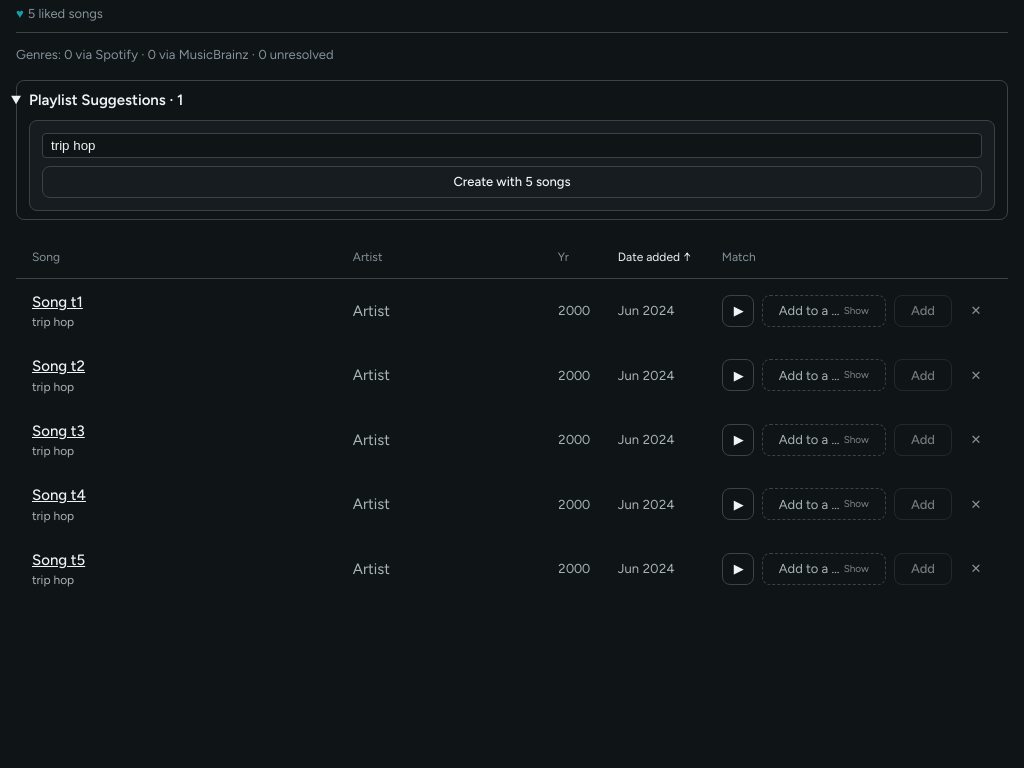
surfaces an error and does not refresh when playlist creation fails
Click the button "Create with 5 songs" at [512, 182], box [42, 166, 982, 198]
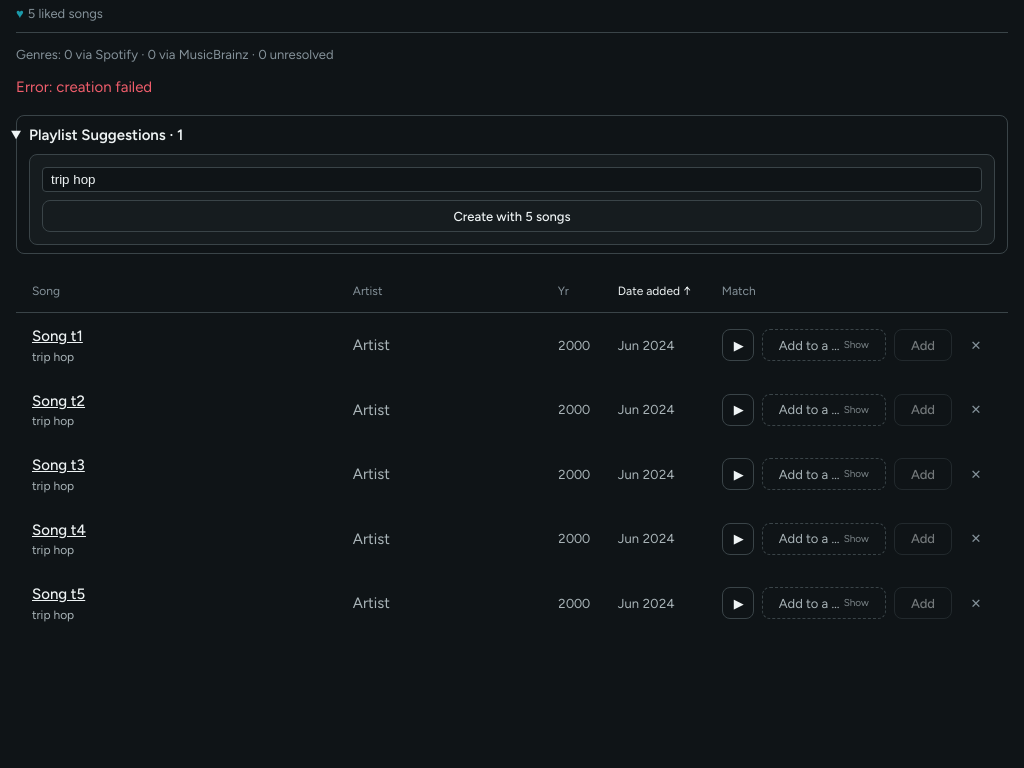
Expected: the message shows "creation failed", [16, 78, 152, 96]
